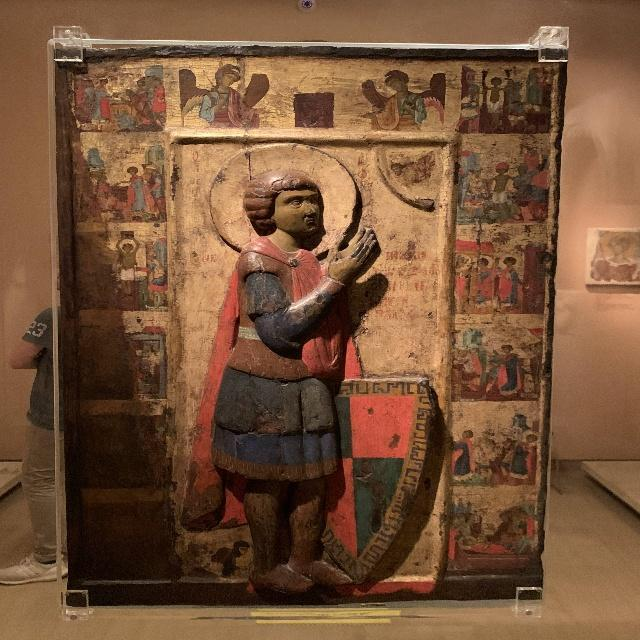angel: (360, 63, 449, 132), (175, 60, 265, 128)
aura: (210, 141, 360, 253), (121, 163, 142, 181)
saint: (199, 141, 437, 591), (124, 162, 157, 220)
shield: (304, 368, 434, 584)
st_george: (202, 145, 443, 583)
